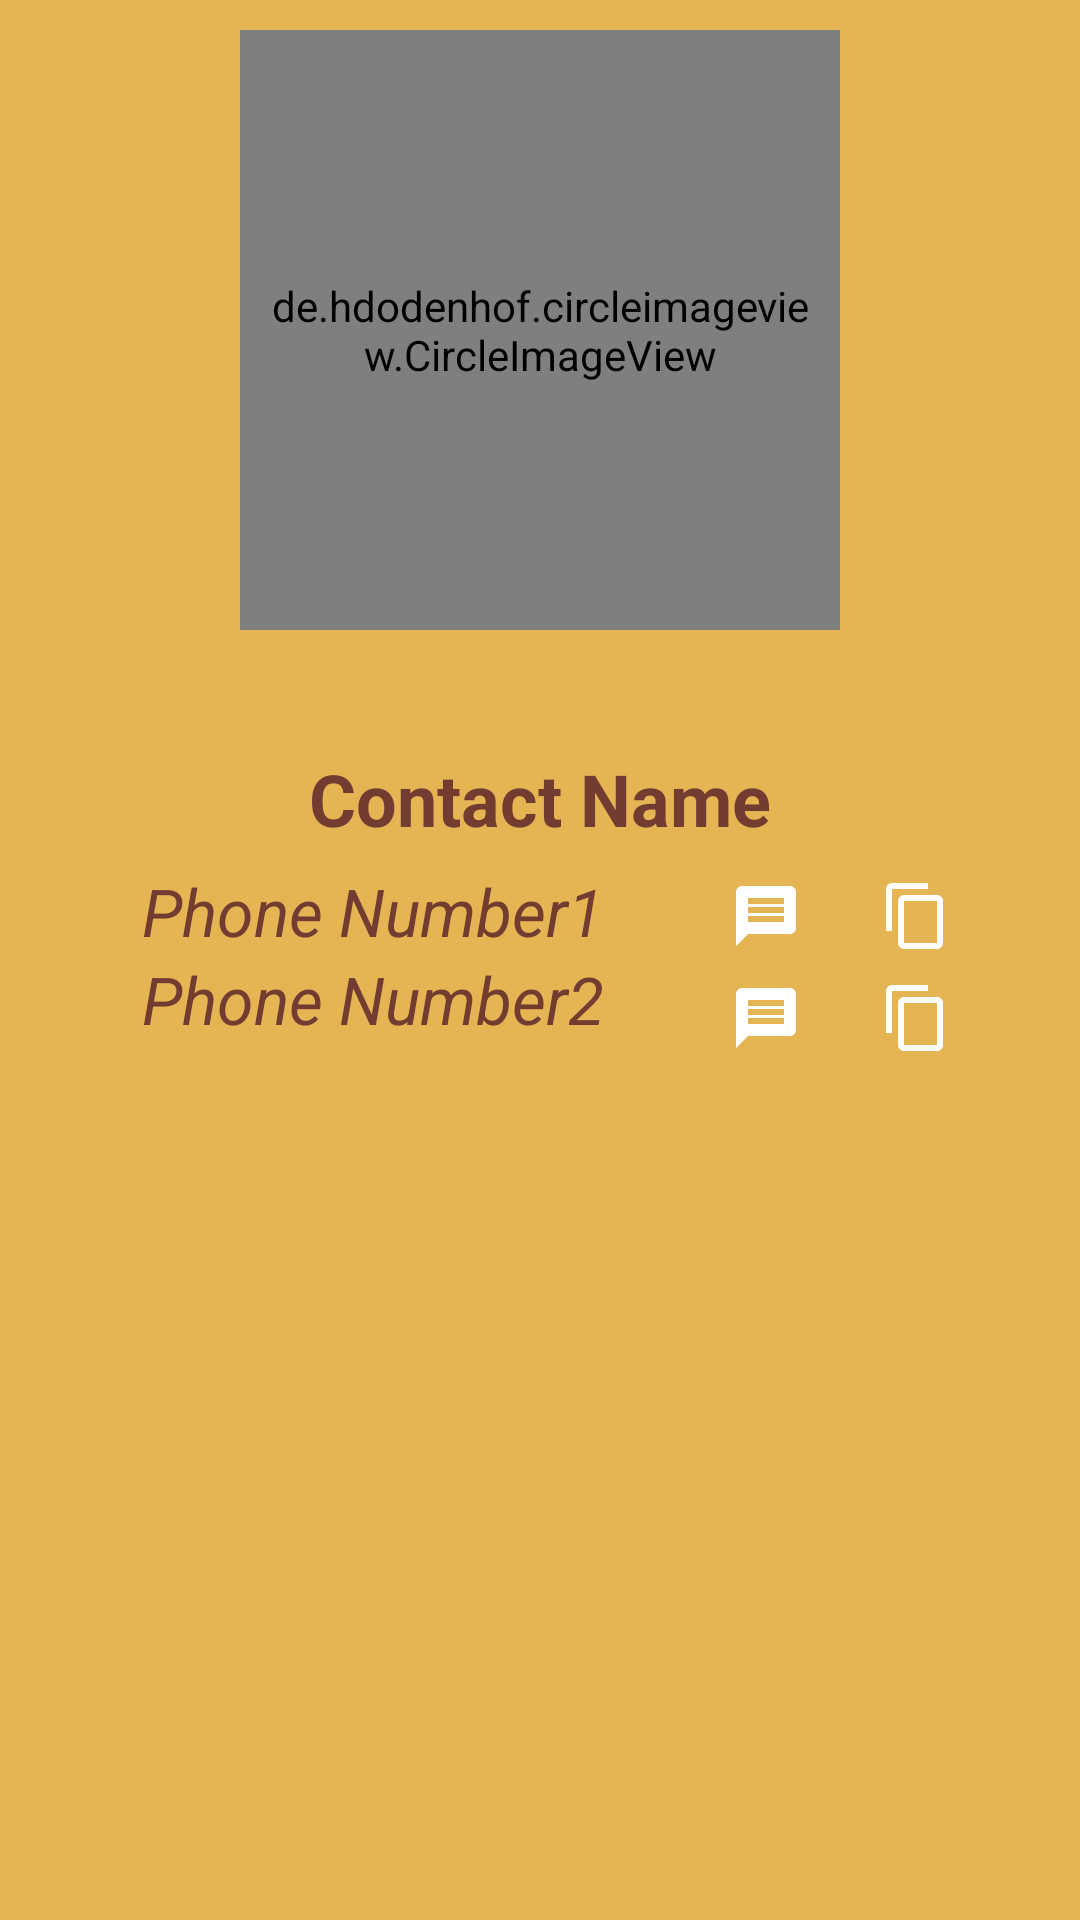

Icons on this 1080w x 1920h Android screen, each with its box as {"left": x1, "top": y1, "right": x2, "bottom": y2}:
message: {"left": 736, "top": 886, "right": 796, "bottom": 946}, {"left": 736, "top": 988, "right": 796, "bottom": 1048}
